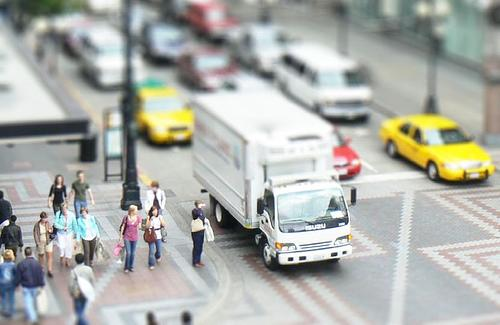truck: (189, 88, 358, 272)
